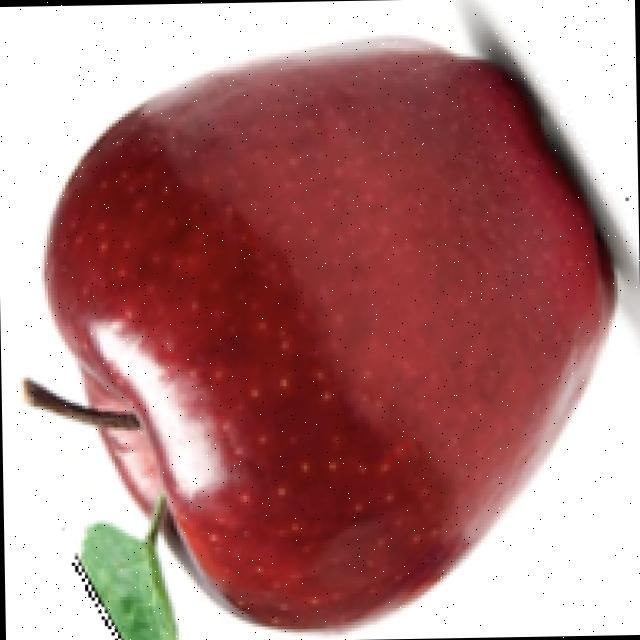apple: (17, 0, 637, 640)
